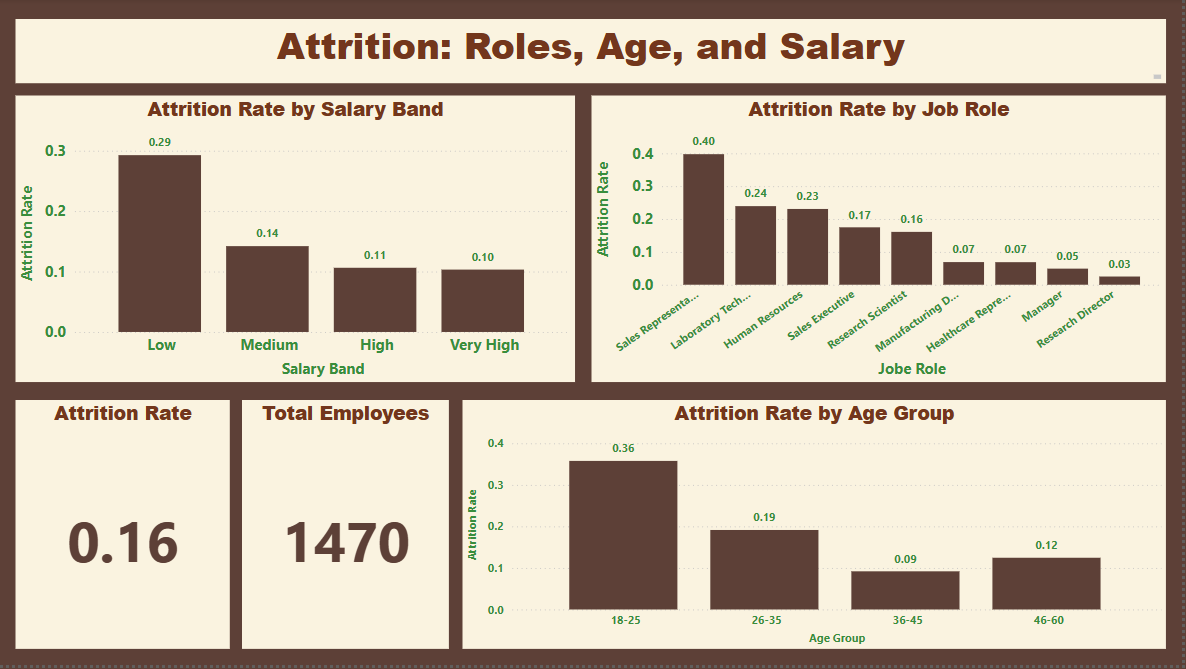

The page's visual inventory and layout, read from the dashboard file:
{"tool":"powerbi","page":{"name":"Page 2","canvas":[1280,720],"ordinal":1},"visuals":[{"type":"clusteredColumnChart","title":"Attrition Rate by Age Group","fields":{"Category":["hr_data_for_powerbi.AgeGroup"],"Y":["Avg(hr_data_for_powerbi.AttritionNumeric)"]},"box":[503.6,434,759.4,268.8],"z":0},{"type":"clusteredColumnChart","title":"Attrition Rate by Salary Band","fields":{"Category":["hr_data_for_powerbi.SalaryBand"],"Y":["Avg(hr_data_for_powerbi.AttritionNumeric)"]},"box":[21,105.2,604,309.3],"z":1000},{"type":"clusteredColumnChart","title":"Attrition Rate by Job Role","fields":{"Category":["hr_data_for_powerbi.JobRole"],"Y":["Avg(hr_data_for_powerbi.AttritionNumeric)"]},"box":[642.8,105.2,620.2,309.3],"z":2000},{"type":"textbox","title":"Attrition: Roles, Age, and Salary","box":[21,22.7,1241.9,69.6],"z":3000},{"type":"card","title":"Attrition Rate","fields":{"Values":["Avg(hr_data_for_powerbi.AttritionNumeric)"]},"box":[21,434,231.5,268.8],"z":4000},{"type":"card","title":"Total Employees","fields":{"Values":["Count(hr_data_for_powerbi.EmployeeNumber)"]},"box":[265.6,434,223.5,268.8],"z":5000}]}

Visuals, with their boxes in screenshot pixels (x1, y1, x2, y2), scaled from the page's 1280x720 canvas onto the 1186x669 screenshot:
"Attrition Rate by Age Group" clusteredColumnChart: l=467, t=403, r=1170, b=653
"Attrition Rate by Salary Band" clusteredColumnChart: l=19, t=98, r=579, b=385
"Attrition Rate by Job Role" clusteredColumnChart: l=596, t=98, r=1170, b=385
"Attrition: Roles, Age, and Salary" textbox: l=19, t=21, r=1170, b=86
"Attrition Rate" card: l=19, t=403, r=234, b=653
"Total Employees" card: l=246, t=403, r=453, b=653
